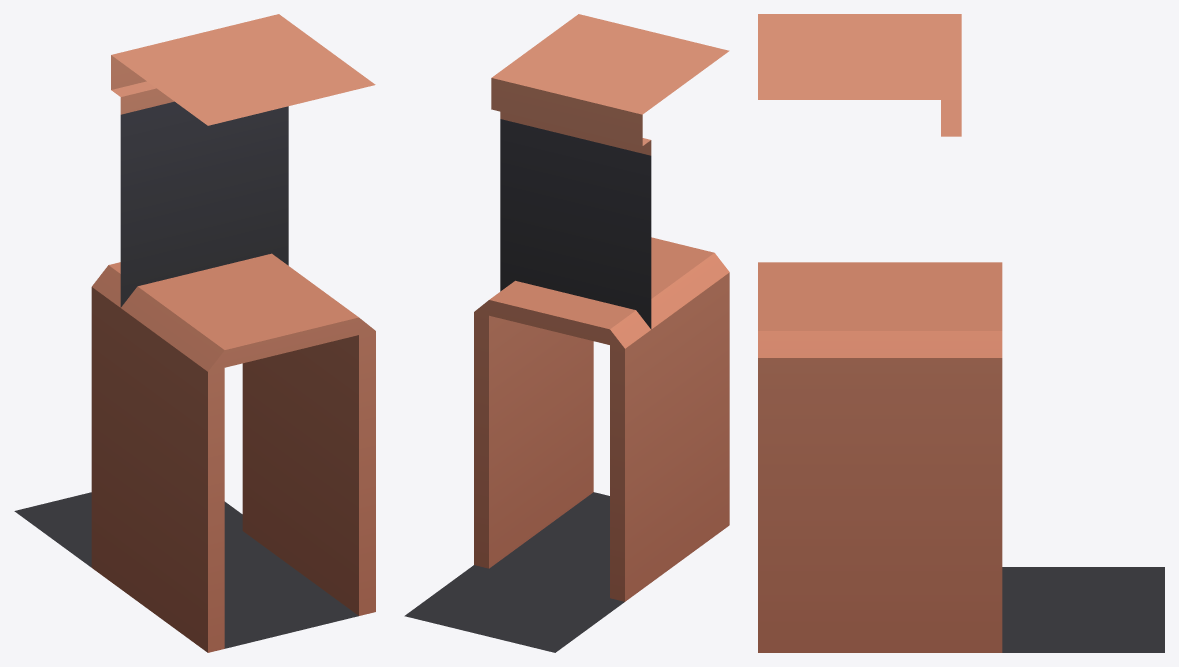
The model's file is structure-doorway.obj.
3 views of the same model, side by side, from view 1: azimuth 30°, elevation 25°; view 2: azimuth 150°, elevation 25°; view 3: azimuth 270°, elevation 25° (orthographic). The views are drawn at different scales.
Visible parts, largest first — view 1: structure-doorway; view 2: structure-doorway; view 3: structure-doorway.
Part boxes in pixels (x1=…): structure-doorway: x1=14, y1=14, x2=375, y2=652; structure-doorway: x1=404, y1=14, x2=729, y2=652; structure-doorway: x1=758, y1=14, x2=1164, y2=652.
Bounding box in the file's own units: 1 × 3 × 2.
